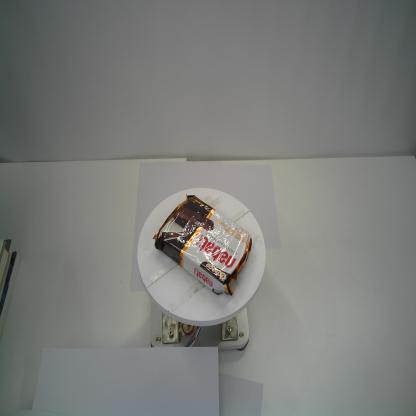Dessert: (152, 192, 254, 298)
